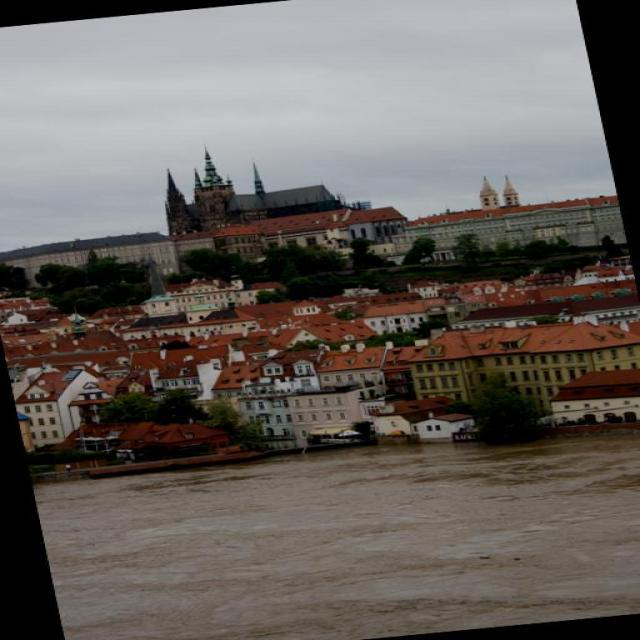flood: (28, 409, 639, 640)
